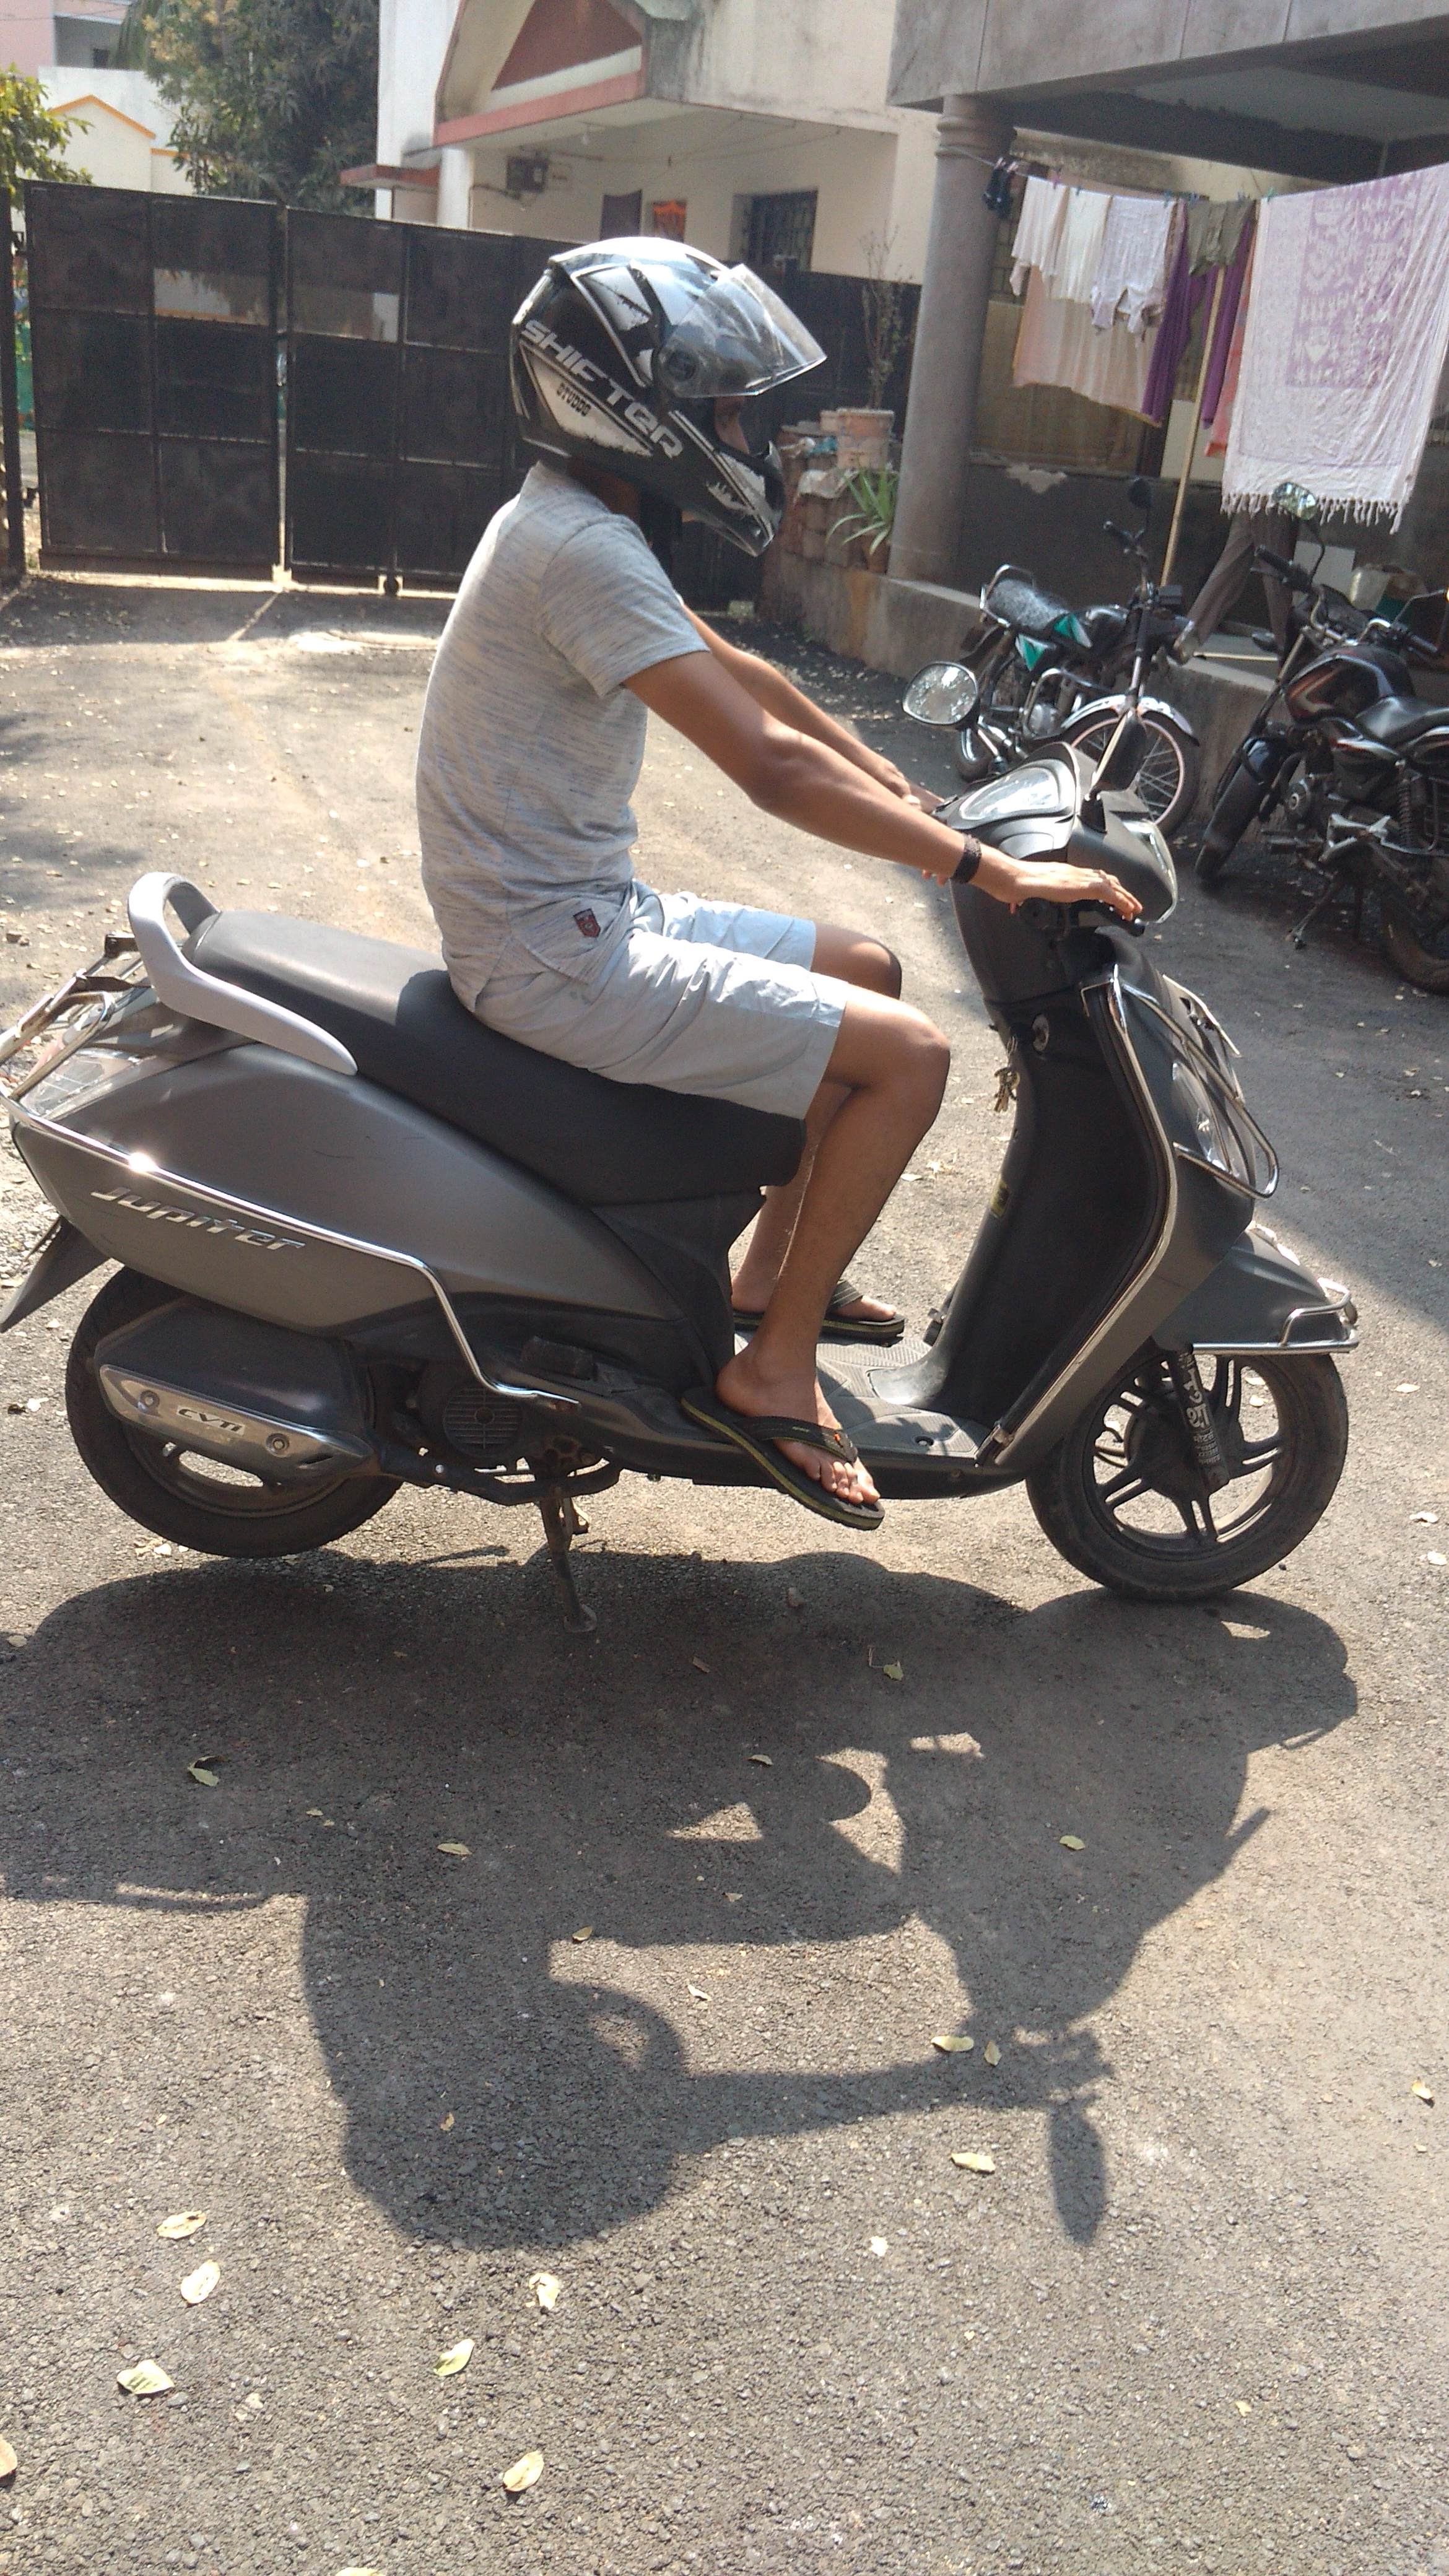helmet: (398, 219, 1157, 1663)
